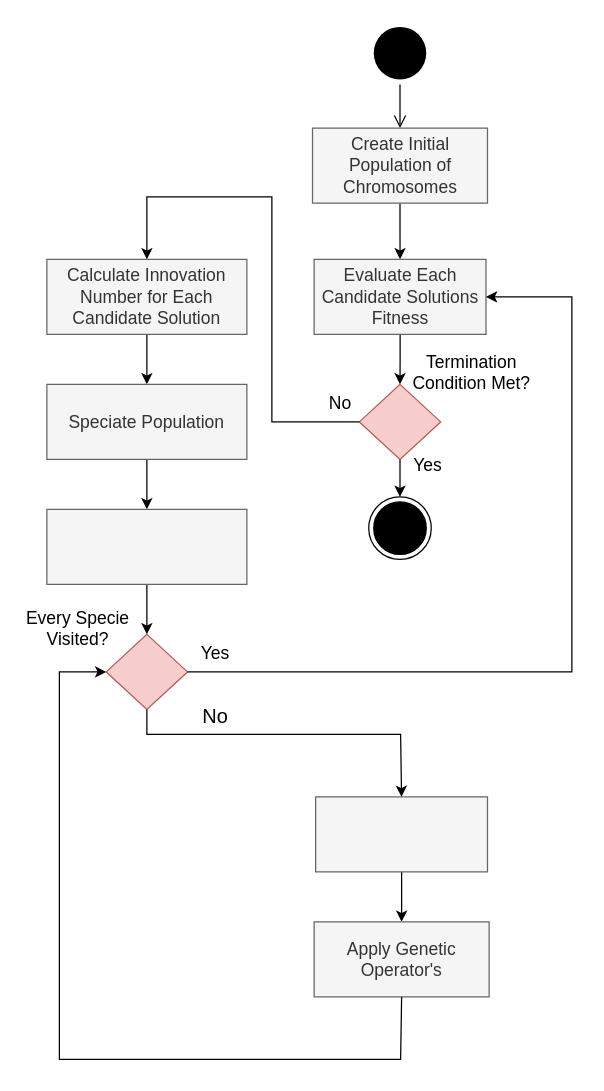
Some shapes in this 604 by 1091 pixel diagram are drawn without their labels. Here are the shapes that lost their labels. From the top down, the box of each, then its label:
(46, 508, 247, 584): Calculate Meme Influence for Each Individual
(314, 796, 488, 872): Apply Selection Operator
